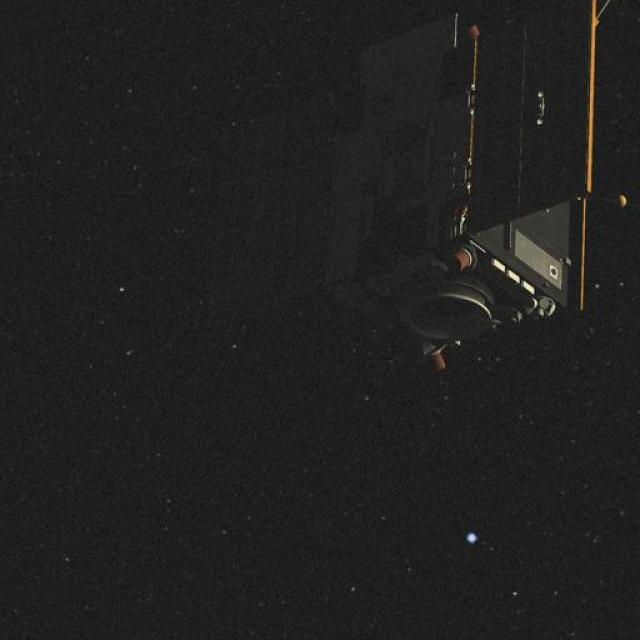proba_2: (220, 0, 639, 348)
